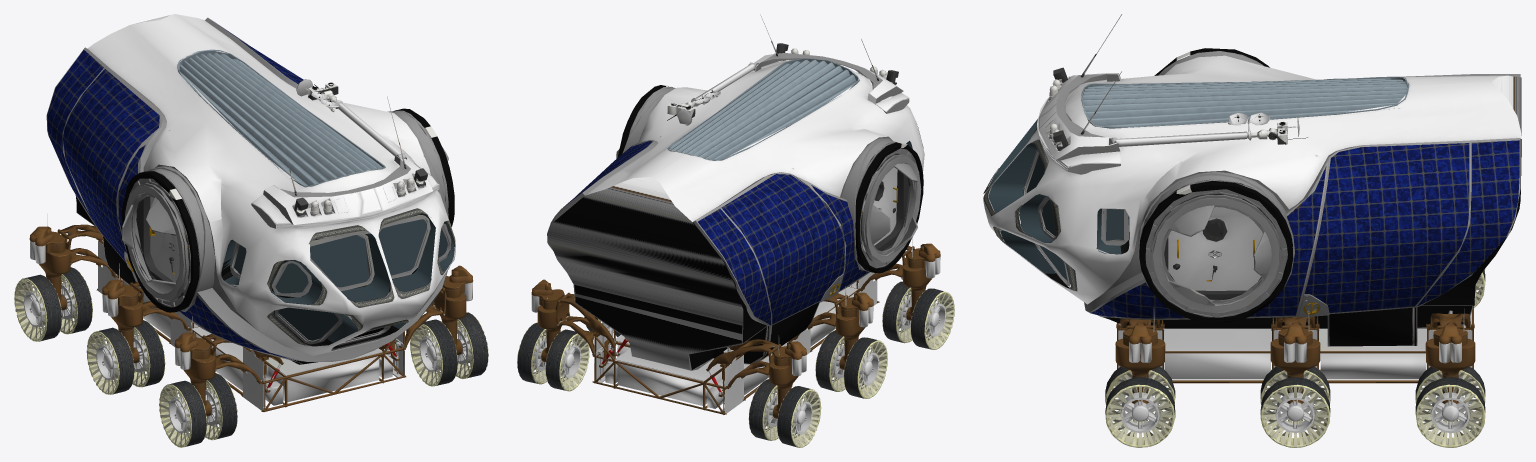
Rendered from rover.glb.
The picture shows the model from 3 angles, left to right: view 1: azimuth 30°, elevation 25°; view 2: azimuth 150°, elevation 25°; view 3: azimuth 270°, elevation 25°; orthographic projection. The views are drawn at different scales.
Parts seen in each view (by area): view 1: body, glass, module_5, module_4, module_3, module_0, wheel_3, wheel_4, wheel_5, wheel_0, lamps; view 2: body, module_4, module_3, module_5, module_2, wheel_5, wheel_2, wheel_4, wheel_3; view 3: body, door, glass, module_0, module_2, module_1, wheel_1, wheel_2, wheel_0.
Part boxes in pixels (bbox=[...]): body: bbox=[46, 14, 455, 411]; glass: bbox=[222, 213, 454, 342]; module_5: bbox=[14, 226, 92, 341]; module_4: bbox=[87, 279, 164, 394]; module_3: bbox=[159, 332, 237, 447]; module_0: bbox=[410, 265, 488, 386]; wheel_3: bbox=[159, 375, 237, 447]; wheel_4: bbox=[86, 328, 165, 394]; wheel_5: bbox=[14, 269, 92, 341]; wheel_0: bbox=[410, 314, 488, 386]; lamps: bbox=[169, 126, 436, 213]; body: bbox=[547, 14, 924, 414]; module_4: bbox=[815, 292, 887, 398]; module_3: bbox=[882, 243, 954, 349]; module_5: bbox=[749, 341, 820, 447]; module_2: bbox=[517, 279, 589, 391]; wheel_5: bbox=[748, 379, 821, 447]; wheel_2: bbox=[517, 324, 589, 391]; wheel_4: bbox=[815, 332, 887, 398]; wheel_3: bbox=[882, 288, 954, 349]; body: bbox=[983, 14, 1521, 383]; door: bbox=[1151, 195, 1281, 313]; glass: bbox=[988, 119, 1129, 284]; module_0: bbox=[1105, 322, 1175, 447]; module_2: bbox=[1415, 322, 1485, 447]; module_1: bbox=[1260, 322, 1330, 447]; wheel_1: bbox=[1261, 369, 1329, 447]; wheel_2: bbox=[1416, 371, 1484, 447]; wheel_0: bbox=[1106, 371, 1174, 447].
Size of the model in its own units: 3.47 by 3.41 by 5.08.
3 materials, 1 textured.
